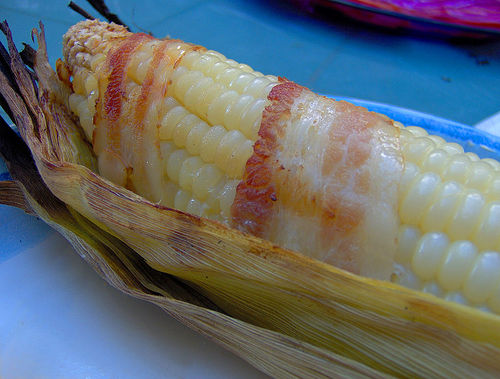corn: (1, 2, 499, 378)
